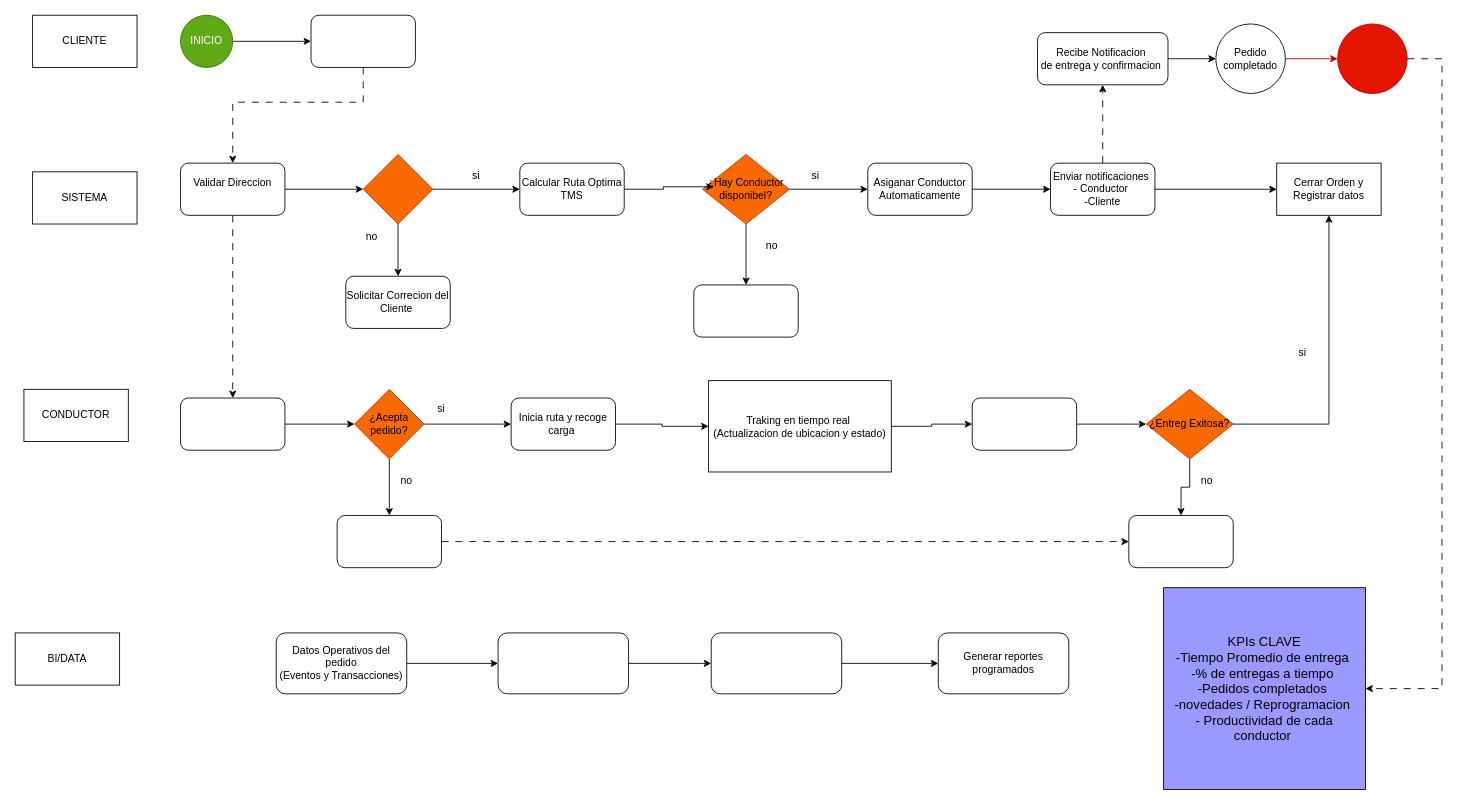
Some shapes in this 1464 by 805 pixel diagram are drawn without their labels. The shapes that lost their labels are listed below. From the top down, each one's box as (x1, y1, x2, y2) in pixels, then its label:
(310, 14, 415, 67): Crear pedido desde la web / portal / e-commerce
(1337, 23, 1407, 94): Fin
(362, 154, 433, 224): Direccion Valida?
(693, 284, 798, 337): Poner Pedido en Cola y reintentar asigancion
(180, 397, 285, 450): Recibe pedido en la App
(971, 397, 1077, 450): Entrega al Cliente y captura firma digital
(336, 515, 442, 568): Rechaza pedido (Reasignar)
(1128, 515, 1233, 568): Registo de novedad y reprogramacion de entrega
(497, 632, 629, 694): Actualizar Dashboards en tiempo real
(710, 632, 842, 694): Generar KPIs Automaticos
